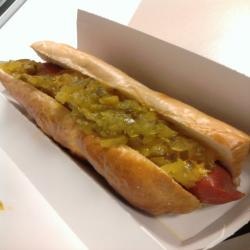hotdog: (1, 38, 250, 215)
